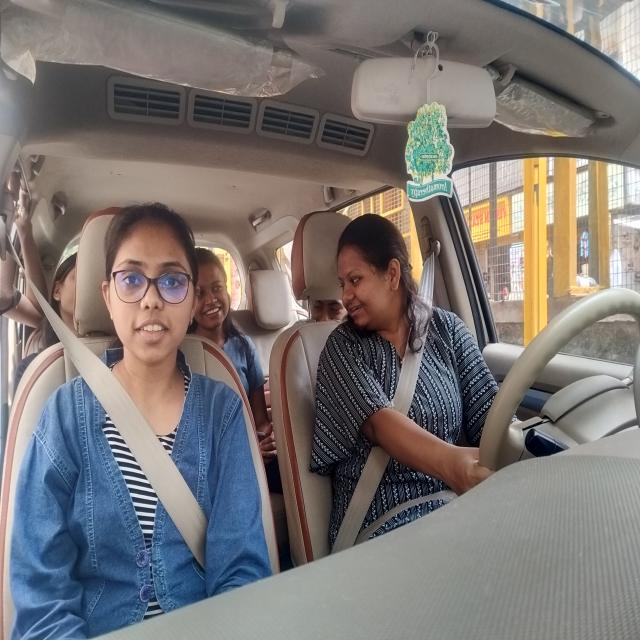LeftRight: (330, 213, 419, 341)
person: (97, 196, 198, 370), (197, 243, 231, 329), (50, 250, 80, 320), (312, 294, 346, 327)
